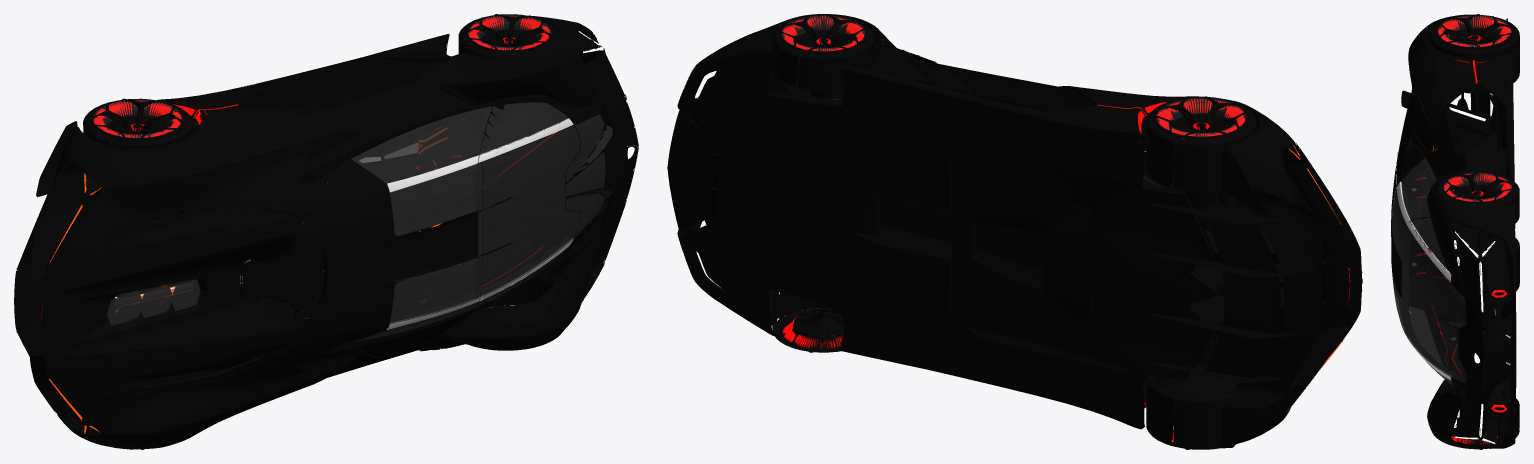
The model's file is lamborghini-ferzor.glb.
The picture shows the model from 3 angles, left to right: view 1: azimuth 30°, elevation 25°; view 2: azimuth 150°, elevation 25°; view 3: azimuth 270°, elevation 25°; orthographic projection. The views are drawn at different scales.
Parts seen in each view (by area): view 1: terzo_wire_000000000_0001, Terzo_wire_000000000_0, Terzo_glass wheel_0, BKL, Terzo_metal_0, FTR, Terzo_redlight_0; view 2: terzo_wire_000000000_0001, Terzo_wire_000000000_0, BKL, FTR; view 3: terzo_wire_000000000_0001, Terzo_wire_000000000_0, Terzo_glass wheel_0, BKL, FTR, Terzo_redlight_0, Terzo_metal_0.
Part boxes in pixels (left/top/right/bottom): terzo_wire_000000000_0001: left=14, top=20, right=638, bottom=448; Terzo_wire_000000000_0: left=15, top=16, right=637, bottom=449; Terzo_glass wheel_0: left=107, top=102, right=612, bottom=342; BKL: left=83, top=14, right=560, bottom=449; Terzo_metal_0: left=245, top=118, right=573, bottom=329; FTR: left=93, top=16, right=549, bottom=137; Terzo_redlight_0: left=41, top=31, right=634, bottom=433; terzo_wire_000000000_0001: left=677, top=14, right=1362, bottom=448; Terzo_wire_000000000_0: left=667, top=17, right=1361, bottom=443; BKL: left=772, top=14, right=1256, bottom=449; FTR: left=782, top=16, right=1244, bottom=441; terzo_wire_000000000_0001: left=1391, top=14, right=1515, bottom=446; Terzo_wire_000000000_0: left=1397, top=54, right=1516, bottom=448; Terzo_glass wheel_0: left=1391, top=158, right=1471, bottom=386; BKL: left=1428, top=14, right=1519, bottom=449; FTR: left=1438, top=16, right=1511, bottom=444; Terzo_redlight_0: left=1416, top=59, right=1507, bottom=443; Terzo_metal_0: left=1396, top=181, right=1510, bottom=380.
Size of the model in its own units: 6.44 by 3.05 by 1.37.
